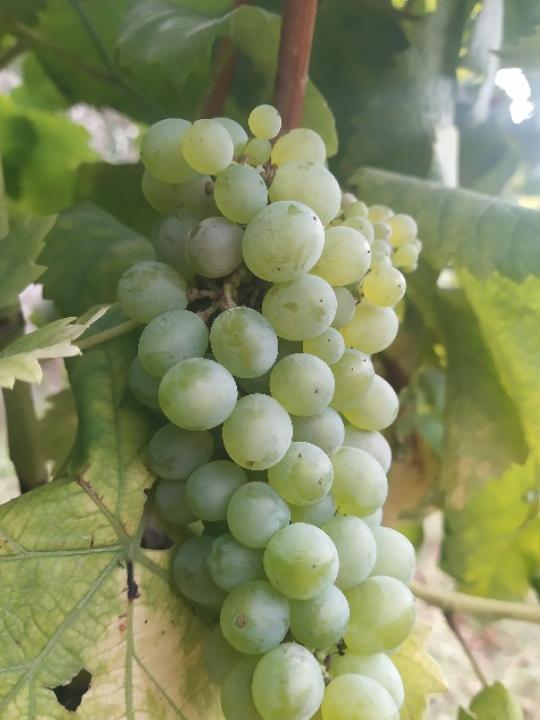grape: (114, 101, 427, 720)
